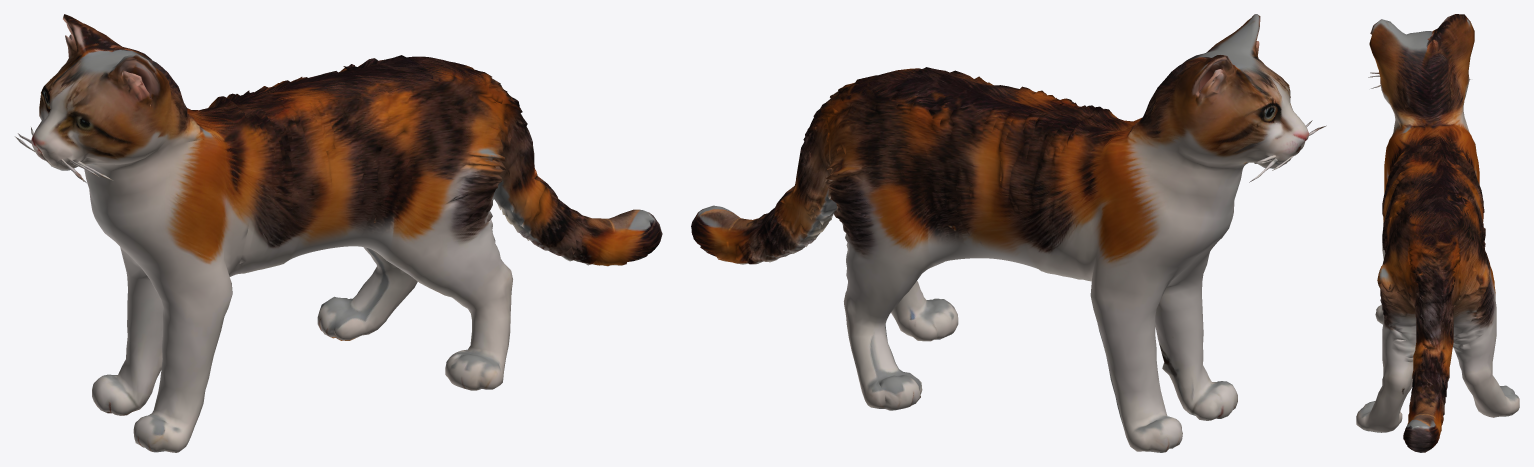
The model's file is deskcat_belly_profile_fix_01.glb.
3 renders of one model, left to right at view 1: azimuth 30°, elevation 25°; view 2: azimuth 150°, elevation 25°; view 3: azimuth 270°, elevation 25°, orthographic. The views are drawn at different scales.
Visible parts, largest first — view 1: DeskCat local belly profile repair STATIC; view 2: DeskCat local belly profile repair STATIC; view 3: DeskCat local belly profile repair STATIC.
Boxes of the visible parts, x1=… form: DeskCat local belly profile repair STATIC: x1=14, y1=14, x2=662, y2=452; DeskCat local belly profile repair STATIC: x1=691, y1=14, x2=1326, y2=452; DeskCat local belly profile repair STATIC: x1=1356, y1=14, x2=1519, y2=452.
Size of the model in its own units: 0.9982 by 0.6271 by 0.3184.
3 materials, 3 textured.
